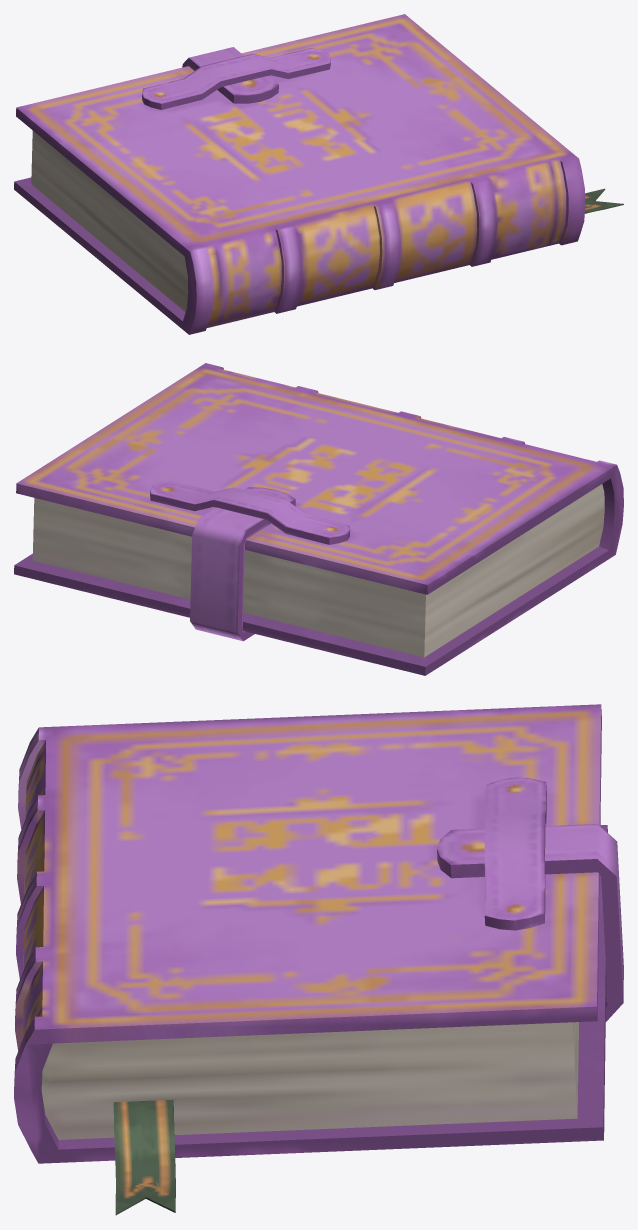
File: Spell_Book.fbx
3 views of the same model, one above another, from view 1: azimuth 30°, elevation 25°; view 2: azimuth 150°, elevation 25°; view 3: azimuth 270°, elevation 25° (orthographic). The views are drawn at different scales.
Parts seen in each view (by area): view 1: Spell_Book; view 2: Spell_Book; view 3: Spell_Book.
Boxes of the visible parts, x1,y1,x2,y2 form: Spell_Book: (14, 14, 623, 334); Spell_Book: (14, 363, 623, 675); Spell_Book: (14, 704, 623, 1215).
Size of the model in its own units: 5.72 by 1.34 by 4.13.
